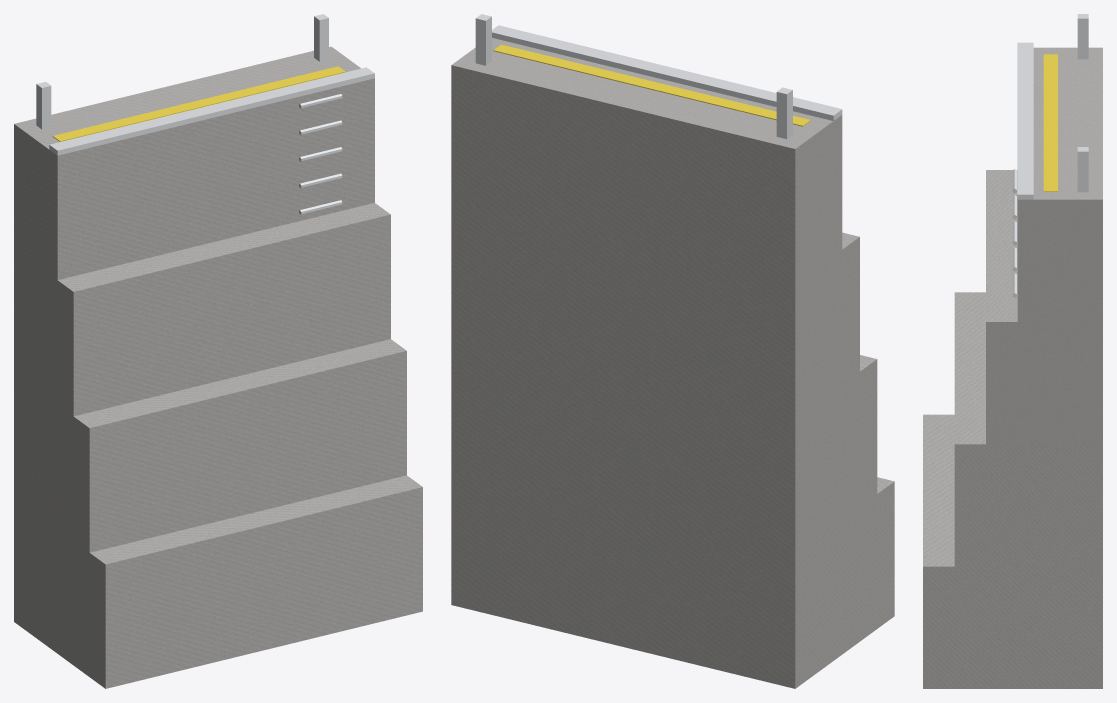
File: shipyard-and-dry-dock-shipyard-and-dry-dock-dry-dock-a-d2030ec1__37917.glb
3 views of the same model, side by side, from view 1: azimuth 30°, elevation 25°; view 2: azimuth 150°, elevation 25°; view 3: azimuth 270°, elevation 25° (orthographic). The views are drawn at different scales.
Visible parts, largest first — view 1: shipyard-and-dry-dock-dry-dock-altar-wall; view 2: shipyard-and-dry-dock-dry-dock-altar-wall; view 3: shipyard-and-dry-dock-dry-dock-altar-wall.
Part boxes in pixels (left/top/right/bottom): shipyard-and-dry-dock-dry-dock-altar-wall: left=14, top=14, right=422, bottom=688; shipyard-and-dry-dock-dry-dock-altar-wall: left=451, top=14, right=894, bottom=688; shipyard-and-dry-dock-dry-dock-altar-wall: left=923, top=14, right=1102, bottom=688.
Bounding box in the file's own units: 4 × 6.5 × 2.
3 materials, 1 textured.
